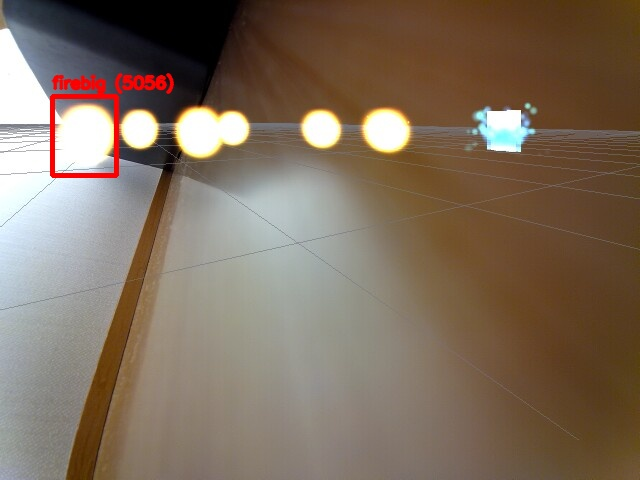firebig: (52, 96, 116, 175)
